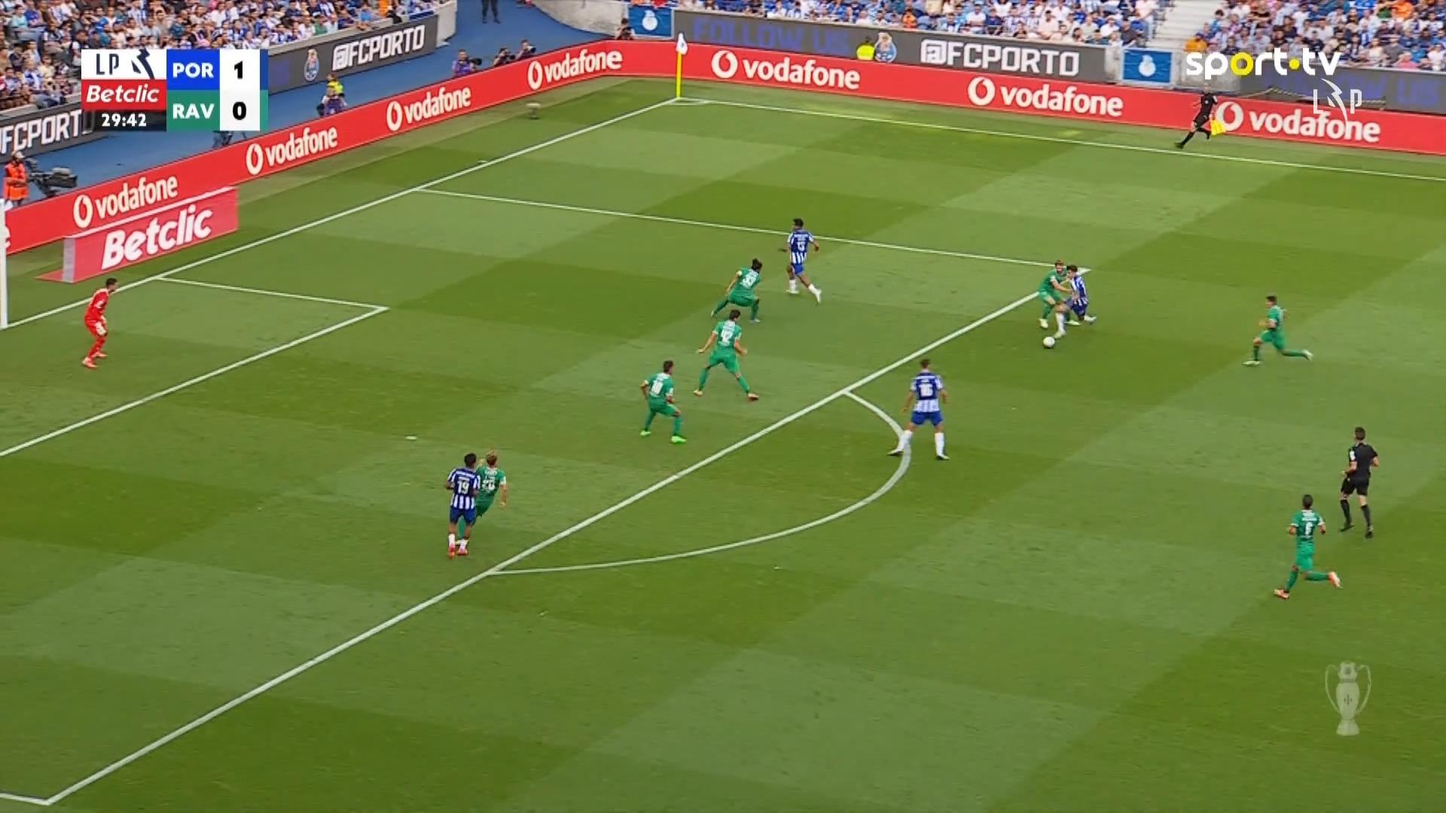ball: (1040, 334, 1055, 350)
goalkeeper: (81, 276, 118, 369)
player: (1272, 492, 1342, 599), (886, 356, 950, 460), (691, 309, 759, 401), (1242, 293, 1313, 366), (638, 358, 687, 443), (444, 452, 480, 558), (779, 217, 822, 305), (709, 257, 763, 323), (1036, 259, 1074, 339), (471, 451, 508, 526), (1059, 263, 1097, 324)
referee: (1338, 425, 1379, 537), (1175, 87, 1217, 148)
